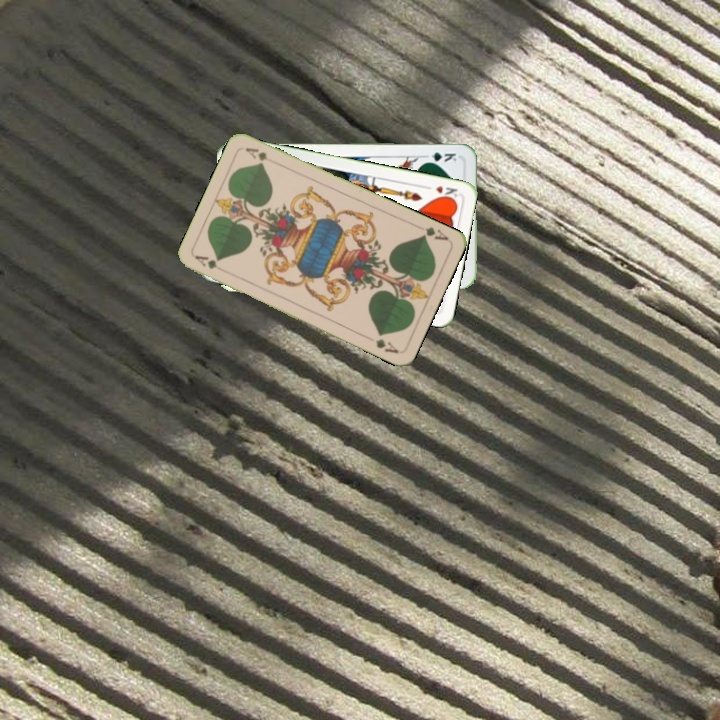GA: (191, 251, 229, 275), (417, 223, 451, 243)
GK: (420, 148, 459, 165)
HK: (421, 182, 460, 203)
